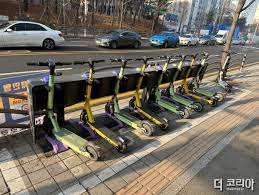guide_blocks: (140, 162, 183, 190), (178, 135, 210, 163), (213, 118, 238, 138), (239, 97, 259, 122)
kick_board: (216, 50, 236, 92)
kick_handler: (26, 59, 71, 70), (74, 57, 105, 66), (109, 57, 133, 64), (158, 53, 175, 61), (136, 55, 154, 62), (175, 54, 191, 60), (222, 50, 236, 55)
kick_neck: (218, 57, 231, 78)
kick_wheel: (86, 143, 101, 160), (114, 136, 127, 153), (141, 121, 154, 136), (180, 106, 191, 118), (194, 101, 204, 112), (159, 117, 168, 129), (215, 92, 225, 102)
